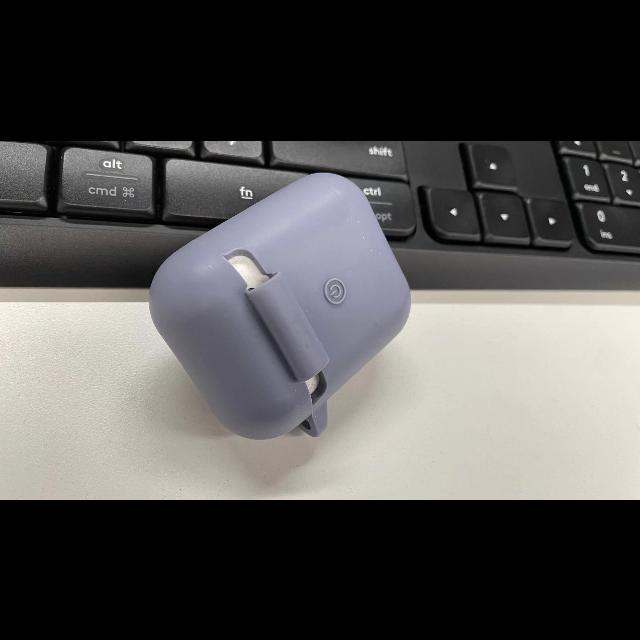airpods: (148, 171, 414, 440)
